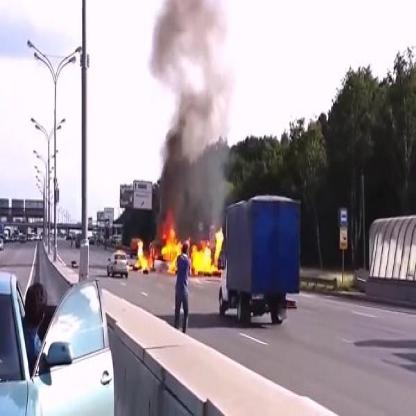fire: (134, 225, 180, 274), (190, 226, 224, 275)
